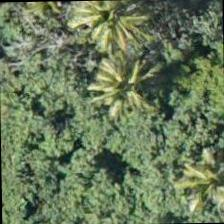Kelapa_Sawit: (76, 43, 168, 135), (59, 0, 151, 57), (0, 0, 87, 50)
